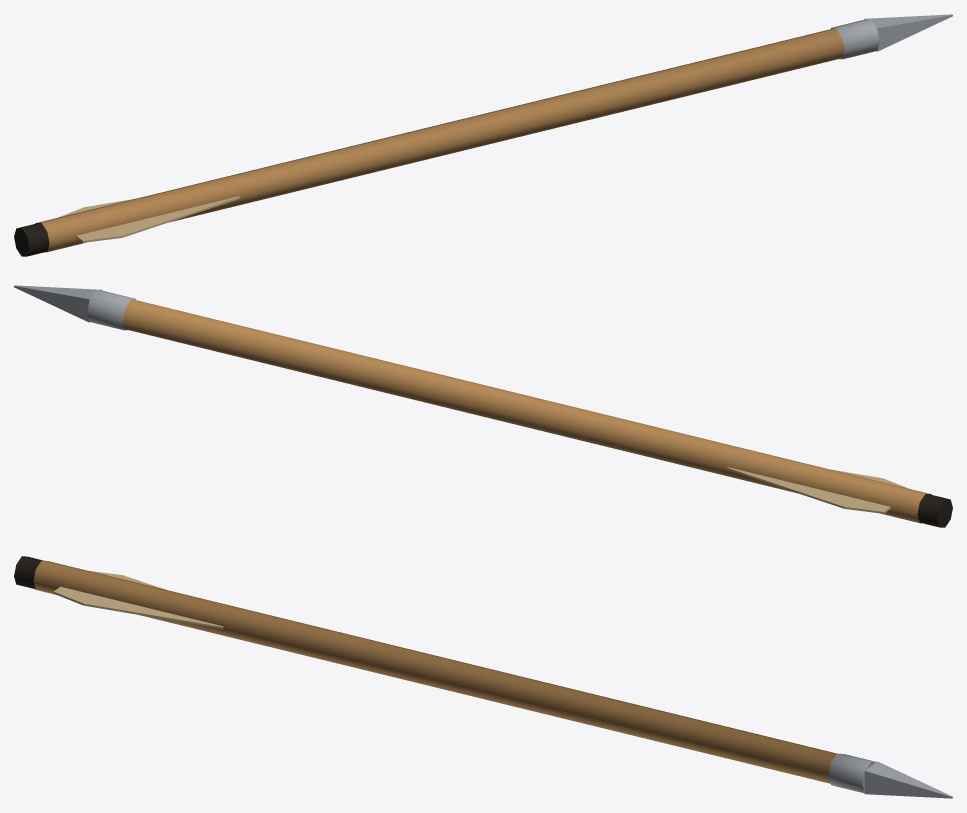
File: sipka.glb
3 renders of one model, top to bottom at view 1: azimuth 30°, elevation 25°; view 2: azimuth 150°, elevation 25°; view 3: azimuth 330°, elevation 25°, orthographic.
Parts seen in each view (by area): view 1: sipka; view 2: sipka; view 3: sipka.
Boxes of the visible parts, bbox=[...] form: sipka: bbox=[14, 14, 952, 256]; sipka: bbox=[14, 285, 952, 527]; sipka: bbox=[14, 556, 952, 798].
Size of the model in its own units: 0.4 by 0.013 by 0.029.
